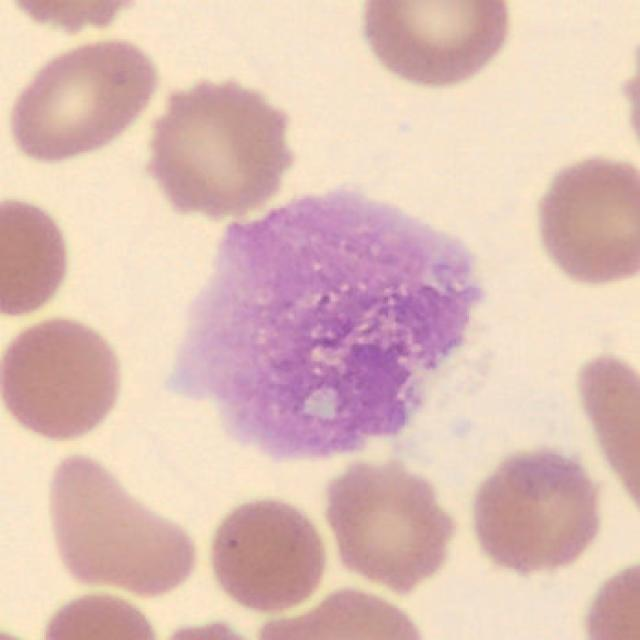Restos celulares: (167, 192, 482, 462)
